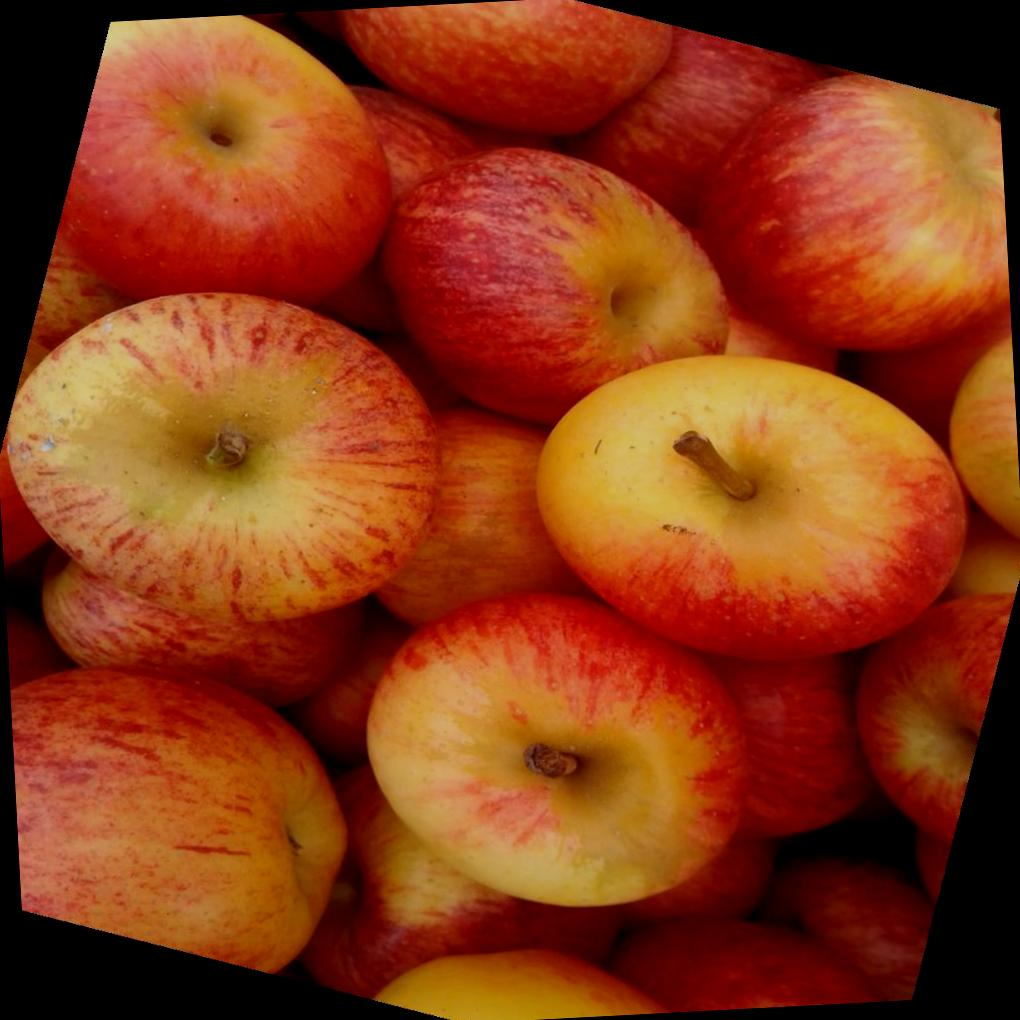FreshGuava: (1, 0, 1020, 993)
